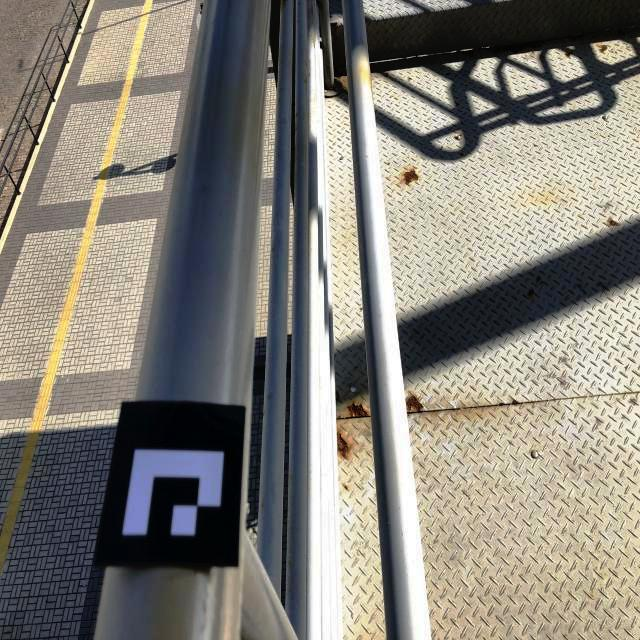Corrosion: (480, 39, 545, 54), (337, 431, 352, 460), (406, 393, 424, 414), (348, 401, 370, 418), (403, 167, 420, 184), (563, 32, 590, 41), (311, 0, 315, 50), (333, 66, 347, 80), (457, 50, 474, 56), (607, 217, 617, 226), (616, 29, 626, 36), (564, 51, 573, 58), (600, 44, 607, 53), (281, 0, 286, 11), (511, 399, 520, 405), (528, 288, 534, 295), (308, 58, 310, 78), (537, 276, 541, 282), (499, 402, 505, 406), (454, 136, 458, 141), (345, 486, 348, 490), (295, 113, 297, 117), (460, 134, 462, 137), (456, 103, 458, 106), (409, 78, 412, 80)
